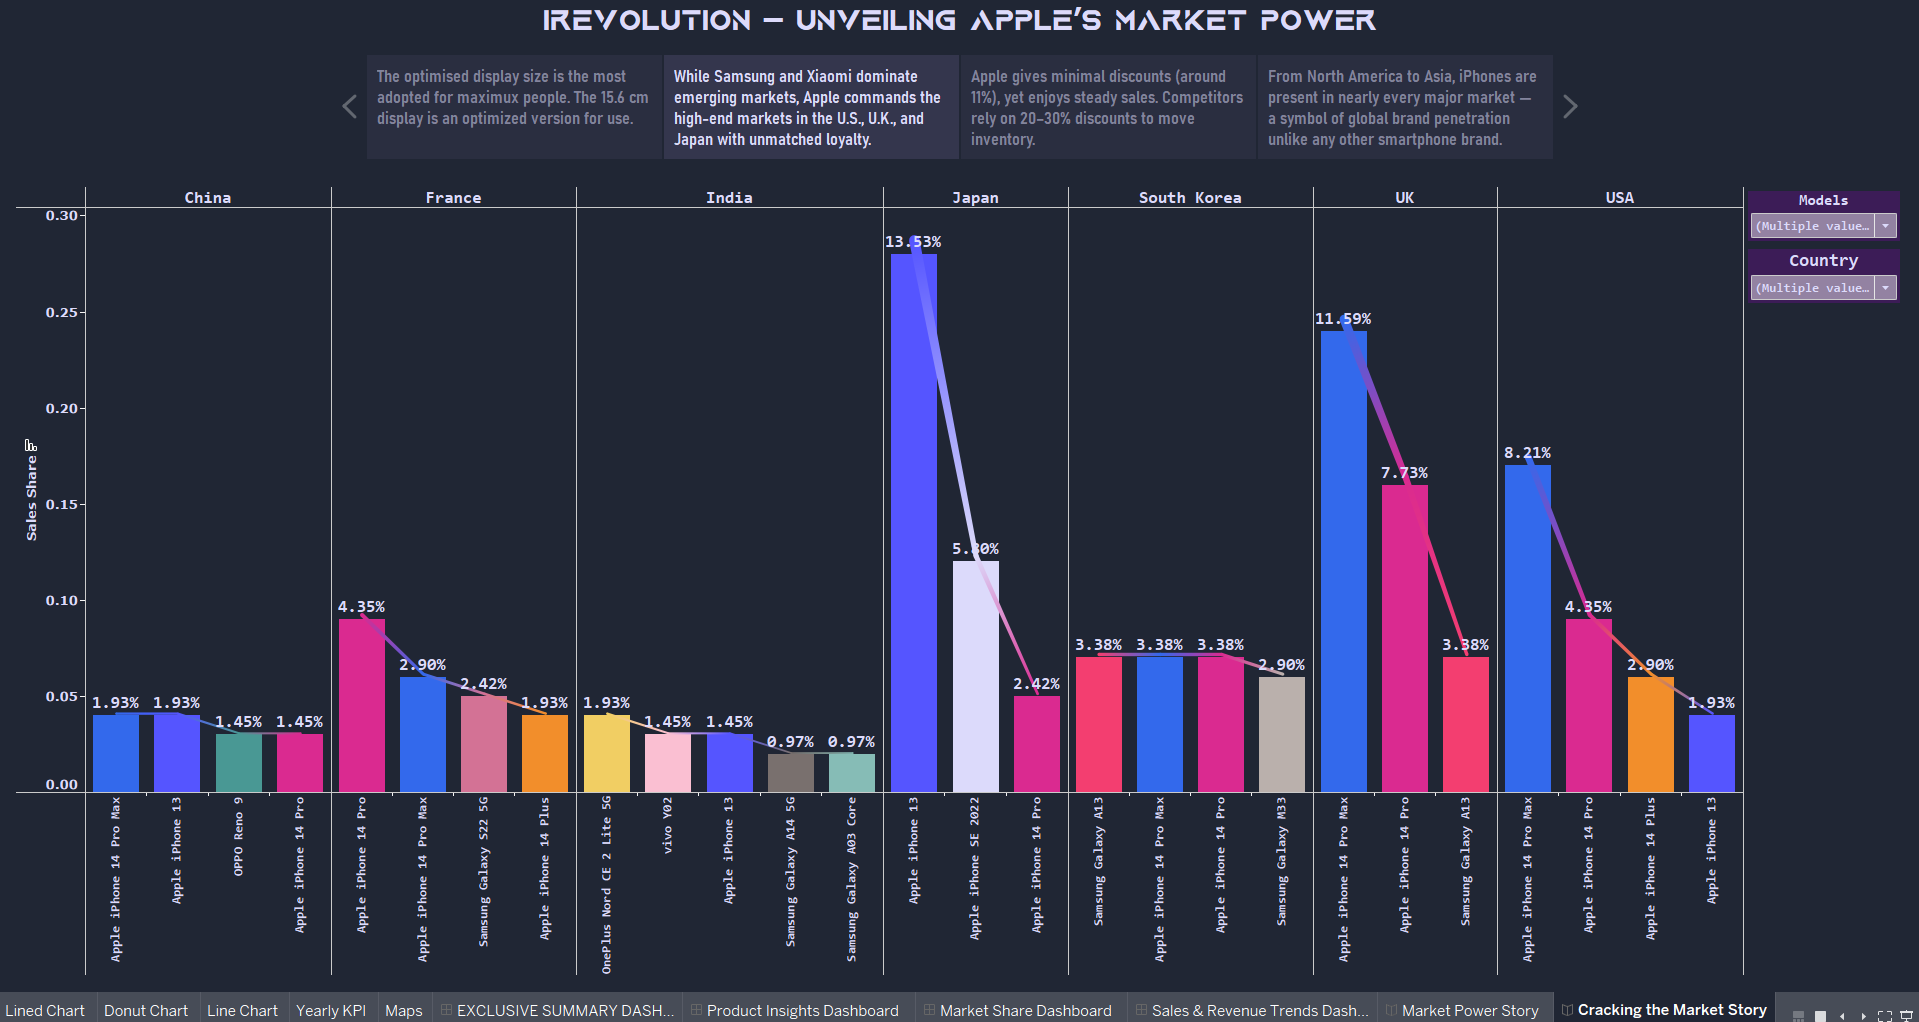

The dashboard page shown, as its layout file describes it:
{"tool":"tableau","page":{"name":"Market Share Dashboard","canvas":[1000,1000],"units":"permille","ordinal":1},"visuals":[{"type":"image","param":"Image/apple-logo-silver-gradient-background-ucqyu9mach40quya.png","box":[6.2,11.6,48,79]},{"type":"text","box":[56.6,12.8,947.7,81.3]},{"type":"filter","title":"Lined Chart","param":"[federated.1gce9tv0aggmgg1erib5s148nrbe].[none:Country:nk]","box":[796.3,73.2,99.4,62.7]},{"type":"filter","title":"Lined Chart","param":"[federated.1gce9tv0aggmgg1erib5s148nrbe].[none:Models:nk]","box":[897.5,76.7,99.4,58.1]},{"type":"worksheet","title":"Lined Chart","mark":"Automatic","rows":["Sales Share","Sales Share"],"cols":["Country","Models"],"box":[11.8,98.7,986.4,426.2]},{"type":"worksheet","title":"Maps","mark":"Multipolygon","box":[11.2,528.5,618.6,466.9]},{"type":"worksheet","title":"Bubble Chart","mark":"Circle","box":[635.4,538.9,359,457.6]}]}

Visuals, with their boxes on the dashboard's canvas, which has no fixed pixel size, in thousandths of its width and height (x1, y1, x2, y2). These are canvas units, not pixel positions in the 1919x1022 screenshot, which may show the page scaled, cropped or inside an application window:
image: {"x1": 6, "y1": 12, "x2": 54, "y2": 91}
text: {"x1": 57, "y1": 13, "x2": 1004, "y2": 94}
"Lined Chart" filter: {"x1": 796, "y1": 73, "x2": 896, "y2": 136}
"Lined Chart" filter: {"x1": 898, "y1": 77, "x2": 997, "y2": 135}
"Lined Chart" worksheet: {"x1": 12, "y1": 99, "x2": 998, "y2": 525}
"Maps" worksheet (Multipolygon marks): {"x1": 11, "y1": 528, "x2": 630, "y2": 995}
"Bubble Chart" worksheet (Circle marks): {"x1": 635, "y1": 539, "x2": 994, "y2": 996}
